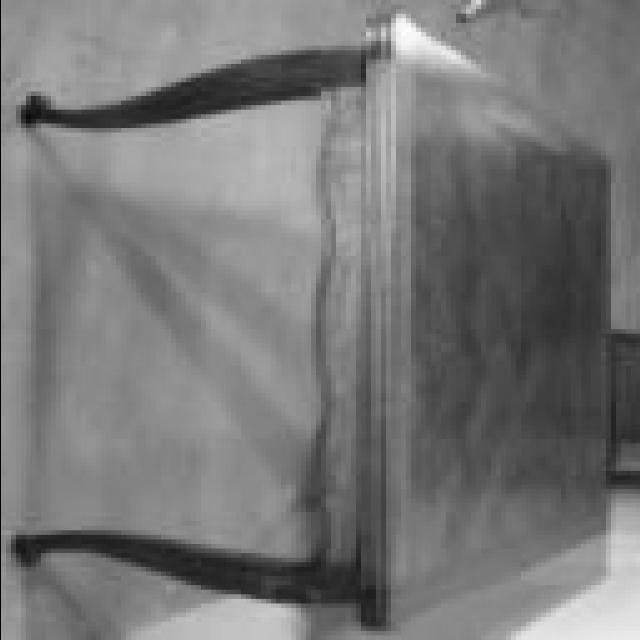table: (11, 8, 614, 635)
